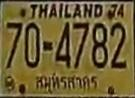0: (24, 22, 39, 67)
2: (110, 22, 126, 69)
4: (55, 21, 70, 67)
7: (6, 22, 22, 66), (73, 22, 88, 66)
8: (91, 22, 107, 67)
SKN: (32, 69, 100, 95)
